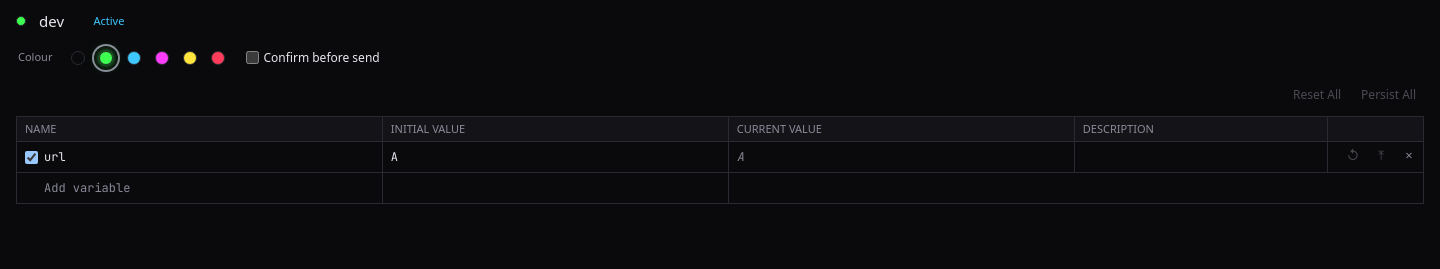
Test: EnvironmentTab › shows a failed colour change
Click the checkbox labelled "Confirm before send": (253,58) x1=246 y1=51 x2=260 y2=64
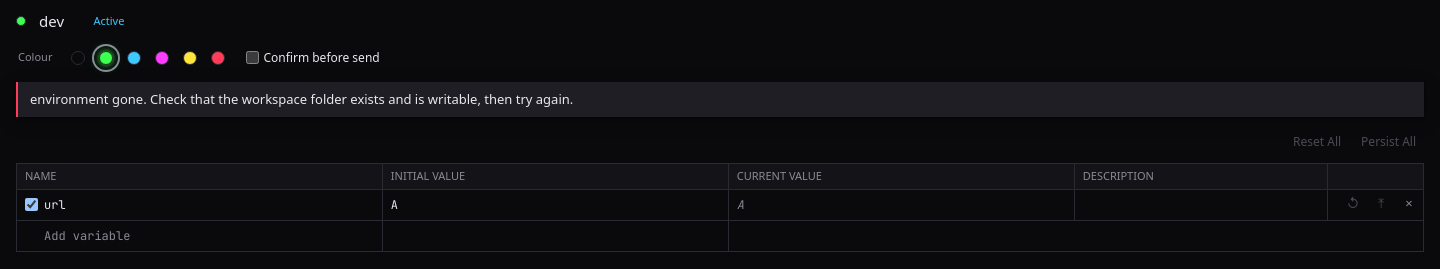
Now the text "environment gone" is shown, box x1=30 y1=90 x2=573 y2=108
